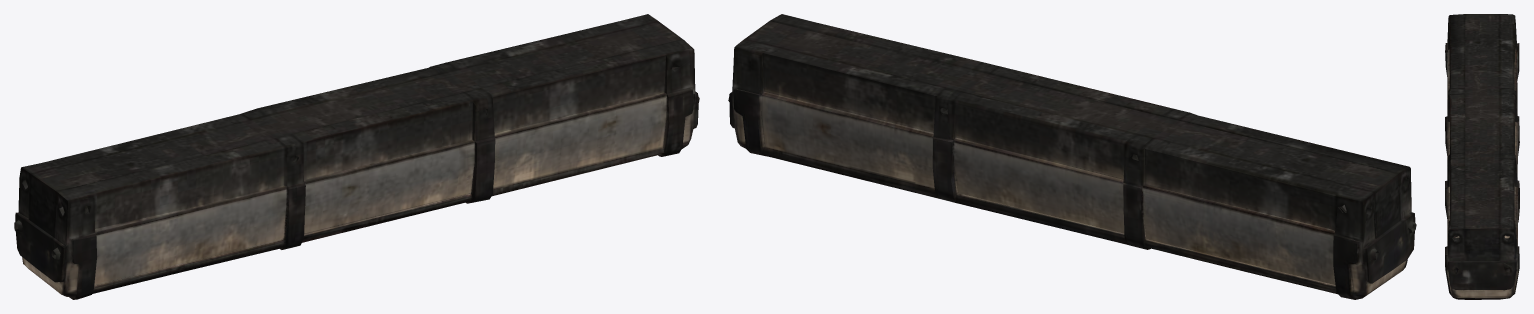
The model's file is light.glb.
The picture shows the model from 3 angles, left to right: view 1: azimuth 30°, elevation 25°; view 2: azimuth 150°, elevation 25°; view 3: azimuth 270°, elevation 25°; orthographic projection. The views are drawn at different scales.
Visible parts, largest first — view 1: light; view 2: light; view 3: light.
Boxes of the visible parts, x1,y1,x2,y2 form: light: [14, 14, 699, 299]; light: [728, 14, 1416, 299]; light: [1445, 14, 1519, 299].
Bounding box in the file's own units: 1.2 × 0.1944 × 0.1725.
1 material, 1 textured.
